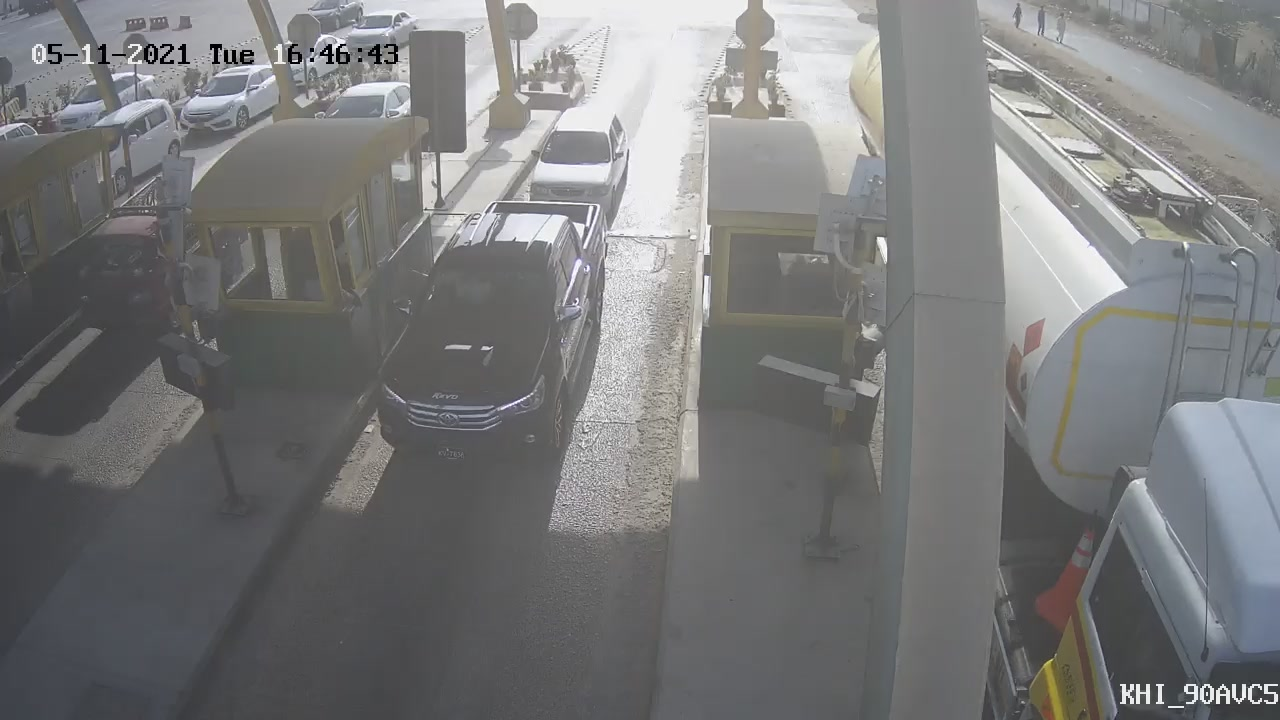F1: (343, 182, 629, 492), (514, 91, 644, 235)
